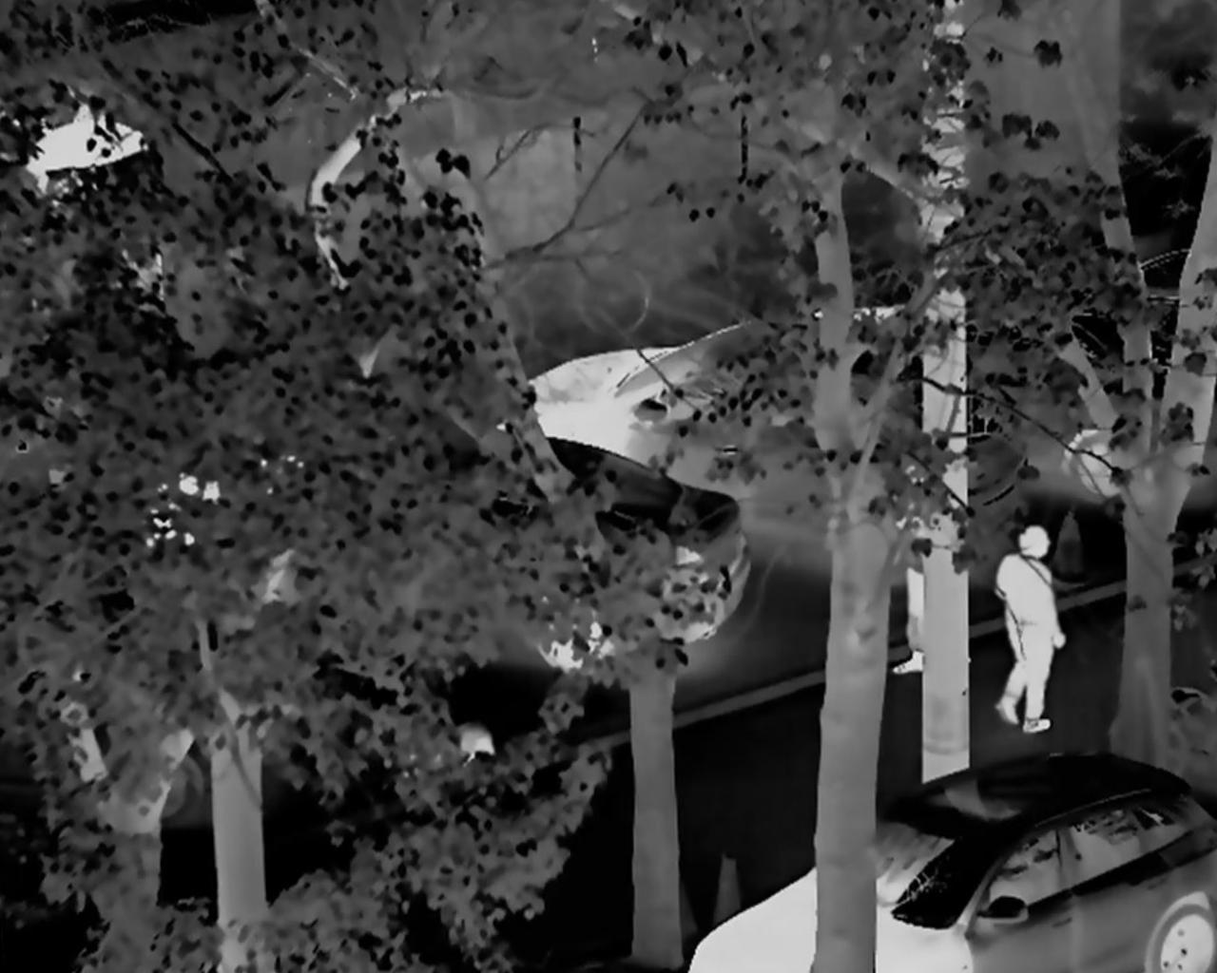person: (982, 525, 1071, 734), (878, 510, 945, 686)
